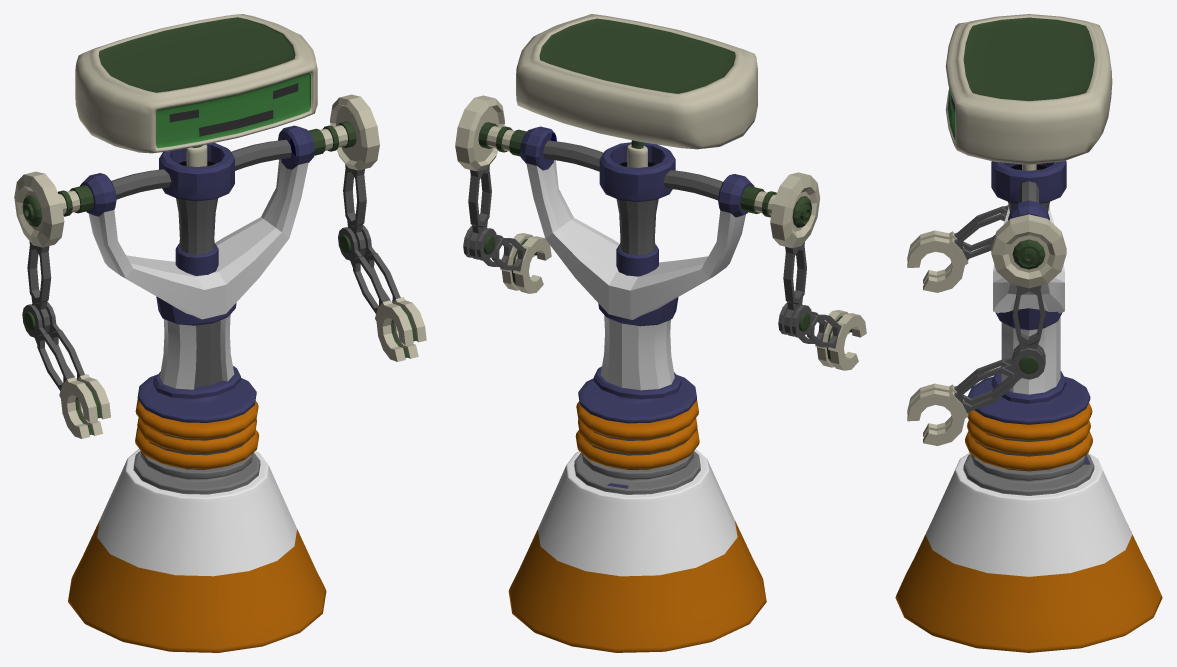
File: npcRobo5.fbx
The picture shows the model from 3 angles, left to right: view 1: azimuth 30°, elevation 25°; view 2: azimuth 150°, elevation 25°; view 3: azimuth 270°, elevation 25°; orthographic projection.
Parts seen in each view (by area): view 1: npcRobo5; view 2: npcRobo5; view 3: npcRobo5.
Boxes of the visible parts, x1,y1,x2,y2 form: npcRobo5: [14, 14, 426, 652]; npcRobo5: [455, 14, 866, 652]; npcRobo5: [895, 14, 1162, 652].
Bounding box in the file's own units: 41.84 × 64.07 × 28.55.
